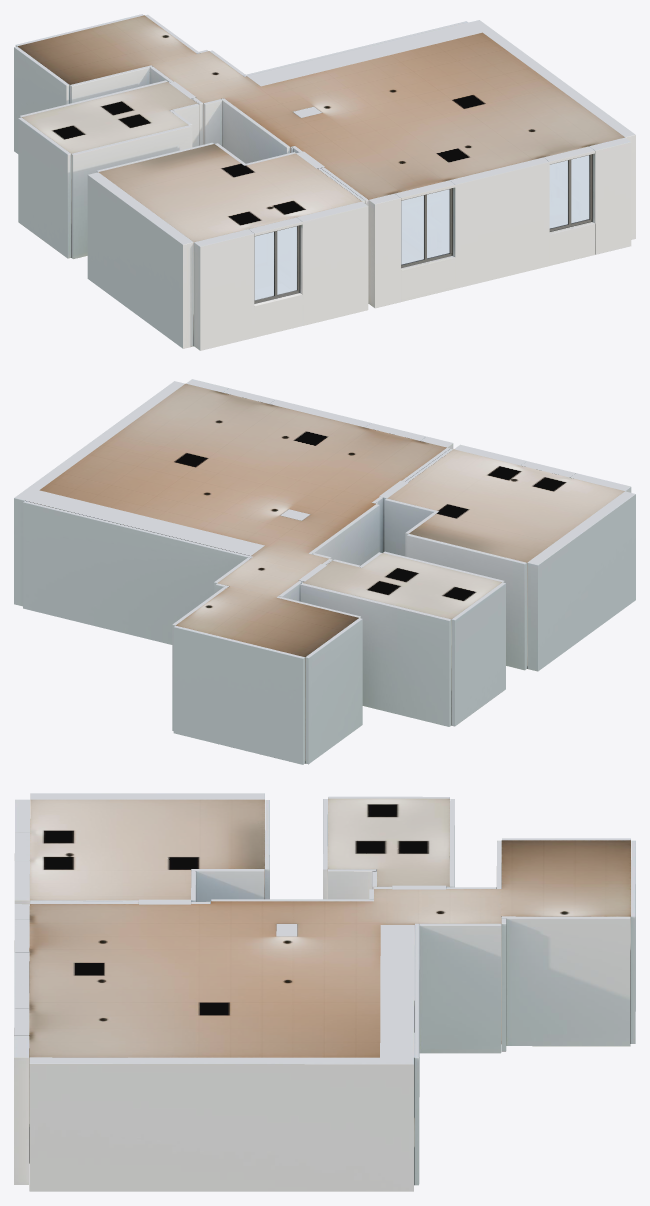
File: flat_baked_table2_wishcap.glb
3 renders of one model, top to bottom at view 1: azimuth 30°, elevation 25°; view 2: azimuth 150°, elevation 25°; view 3: azimuth 270°, elevation 25°, orthographic. The views are drawn at different scales.
Parts seen in each view (by area): view 1: zapec_telo_0, zapec_stropy_3, zapec_zdi_1, sklo_okno_67, sklo_okno_111, sklo_okno_74; view 2: zapec_telo_0, zapec_stropy_3, zapec_zdi_1; view 3: zapec_stropy_3, zapec_telo_0, zapec_zdi_1.
Part boxes in pixels (box(x1,y1,x2,y2)): zapec_telo_0: box(14, 14, 635, 350); zapec_stropy_3: box(18, 15, 624, 242); zapec_zdi_1: box(69, 22, 592, 345); sklo_okno_67: box(401, 189, 449, 264); sklo_okno_111: box(254, 226, 296, 300); sklo_okno_74: box(549, 155, 589, 228); zapec_telo_0: box(14, 379, 635, 764); zapec_stropy_3: box(39, 383, 624, 656); zapec_zdi_1: box(25, 480, 527, 763); zapec_stropy_3: box(29, 798, 630, 1057); zapec_telo_0: box(14, 793, 635, 1191); zapec_zdi_1: box(29, 856, 630, 1184).
Bounding box in the file's own units: 12.31 × 2.71 × 11.94.
Materials: 10 (8 with a texture image).
